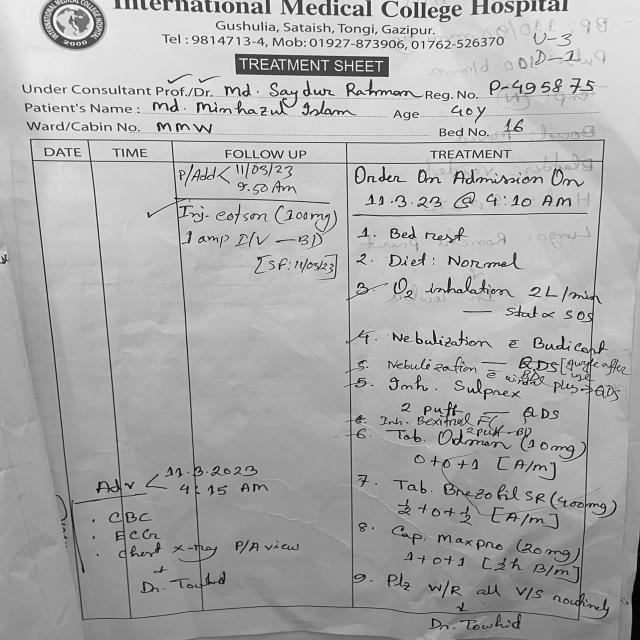Brezofil: (436, 478, 528, 507)
Budicort: (526, 331, 610, 359)
Cotson: (214, 207, 273, 228)
Maxpro: (434, 528, 511, 555)
Odmon: (435, 427, 511, 456)
Sulprex: (450, 378, 522, 400)
